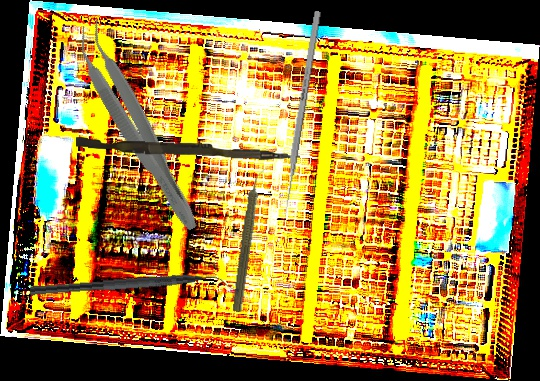Chopper: (29, 268, 235, 309)
Handpiece: (229, 166, 268, 314)
Pusher: (280, 10, 322, 220), (75, 137, 301, 161)
Tissue Forceps: (65, 17, 213, 237)
